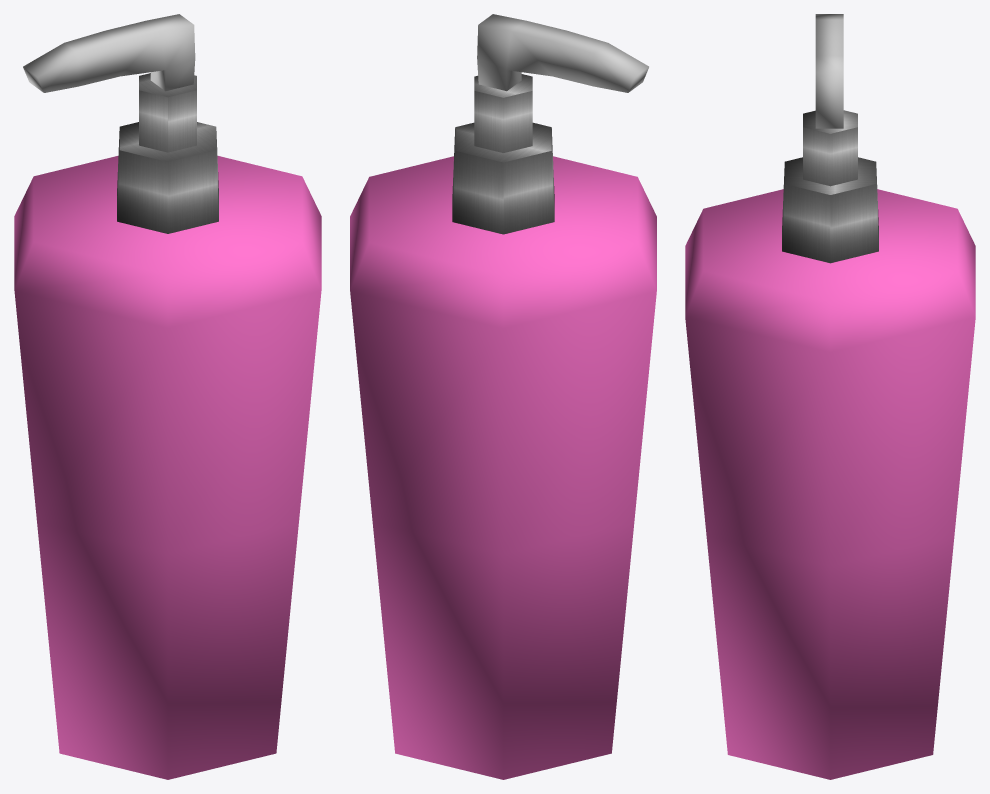
File: Soap_Dispenser_I.FBX
The picture shows the model from 3 angles, left to right: view 1: azimuth 30°, elevation 25°; view 2: azimuth 150°, elevation 25°; view 3: azimuth 270°, elevation 25°; orthographic projection. The views are drawn at different scales.
Visible parts, largest first — view 1: Soap_Dispenser; view 2: Soap_Dispenser; view 3: Soap_Dispenser.
Boxes of the visible parts, box(x1,y1,x2,y2) form: Soap_Dispenser: box(14, 14, 321, 779); Soap_Dispenser: box(350, 14, 656, 779); Soap_Dispenser: box(685, 14, 975, 779).
Size of the model in its own units: 18.48 by 40.55 by 16.01.
